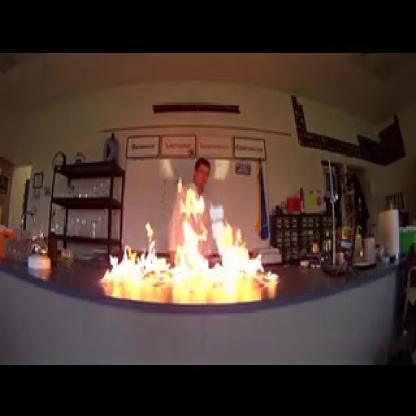fire: (98, 188, 281, 286)
